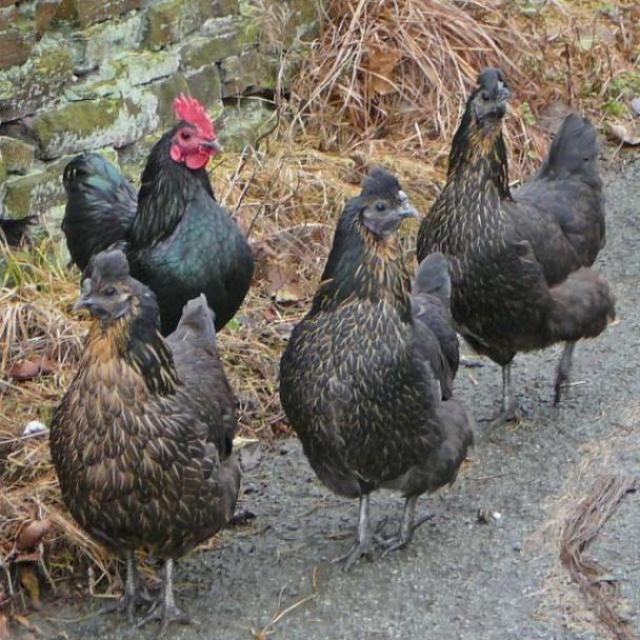Chicken: (274, 165, 481, 571), (50, 240, 239, 639), (415, 67, 617, 436), (57, 93, 254, 335)
